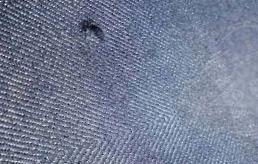knot: (81, 20, 108, 44)
